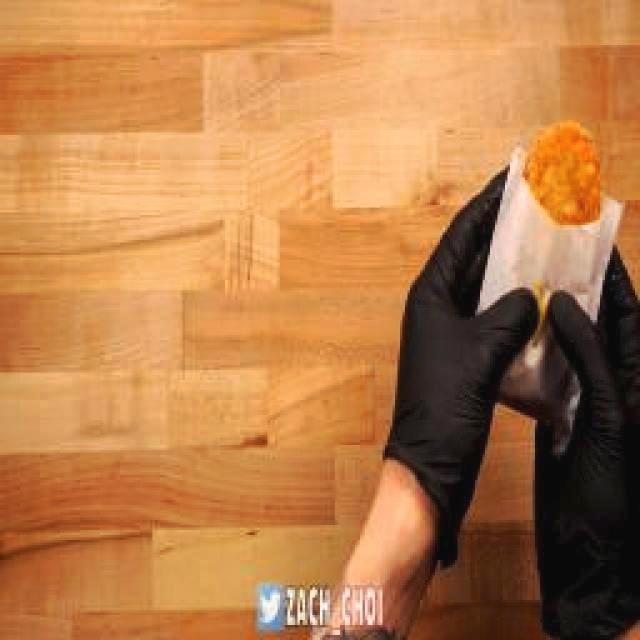Hashbrown: (521, 120, 604, 224)
